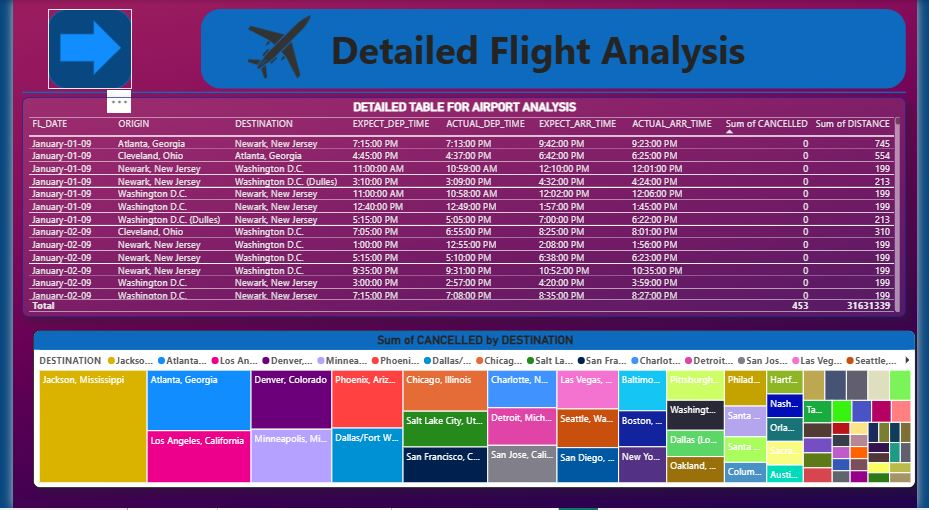

This screenshot's page, from the dashboard's own definition file:
{"tool":"powerbi","page":{"name":"Detailed Flight Analysis","canvas":[1280,720],"ordinal":2},"visuals":[{"type":"shape","box":[266.2,12.3,999,112.5],"z":0},{"type":"textbox","box":[444.6,28.8,757.5,96.1],"z":1000},{"type":"shape","box":[12.3,124.9,1252.8,12.3],"z":2000},{"type":"shape","box":[49.5,12.1,119.4,113.4],"z":3000},{"type":"tableEx","title":"DETAILED TABLE FOR AIRPORT ANALYSIS","fields":{"Values":["flights_data.FL_DATE","flights_data.ORIGIN","flights_data.DESTINATION","flights_data.EXPECT_DEP_TIME","flights_data.ACTUAL_DEP_TIME","flights_data.EXPECT_ARR_TIME","flights_data.ACTUAL_ARR_TIME","Sum(flights_data.CANCELLED)","Sum(flights_data.DISTANCE)"]},"box":[12.8,137.5,1252.9,311.8],"z":4000},{"type":"shape","box":[66.4,29,86.9,78.4],"z":5000},{"type":"treemap","fields":{"Group":["flights_data.DESTINATION","flights_data.ORIGIN"],"Values":["Sum(flights_data.CANCELLED)"]},"box":[28.3,467.7,1251.5,223.9],"z":6000},{"type":"image","box":[310.4,17,134.6,99.2],"z":7000}]}

Visuals, with their boxes in screenshot pixels (x1, y1, x2, y2), scaled from the page's 1280x720 canvas onto the 929x510 screenshot:
shape: 193,9,918,88
textbox: 323,20,872,88
shape: 9,88,918,97
shape: 36,9,123,89
"DETAILED TABLE FOR AIRPORT ANALYSIS" tableEx: 9,97,919,318
shape: 48,21,111,76
treemap - flights_data.DESTINATION x flights_data.ORIGIN: 21,331,928,490
image: 225,12,323,82
